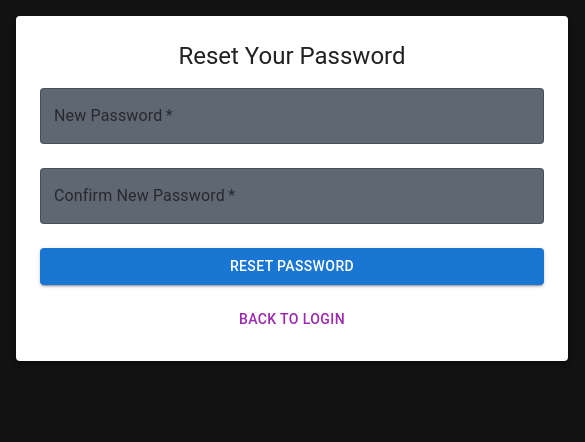
Test: ResetPassword Component › shows error when passwords do not match
// Type different passwords
In the password field labelled "New Password *": point(292, 116) [40,88,544,144], type "password123"
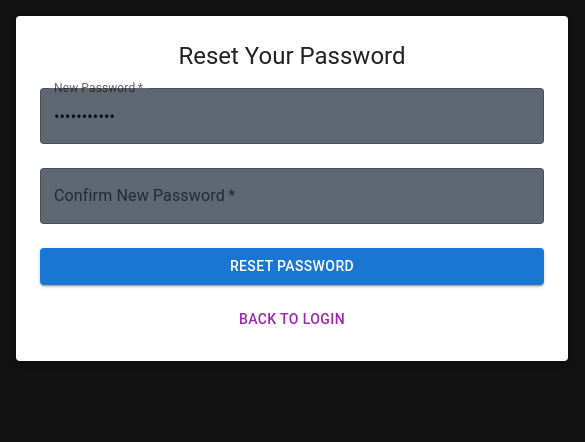
In the password field labelled "Confirm New Password *": point(292, 196) [40,168,544,224], type "different"
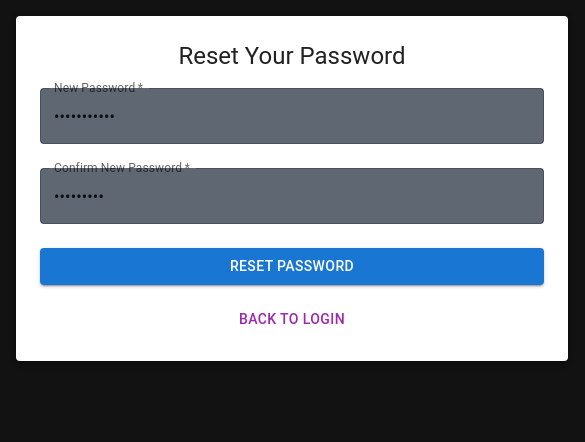
// Submit the form
Click the button "Reset Password": point(292, 266) [40,248,544,284]
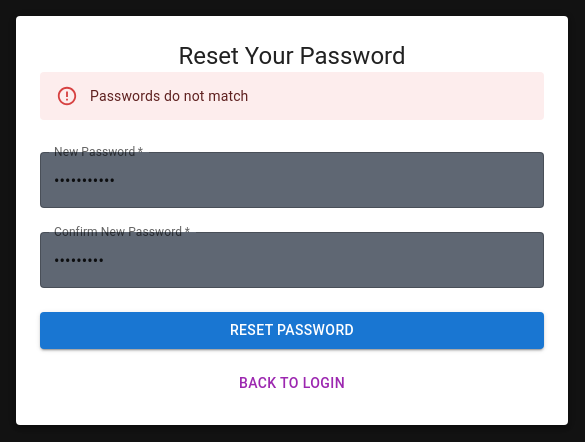
Expected: the text "Passwords do not match" is shown, [90,88,248,104]
